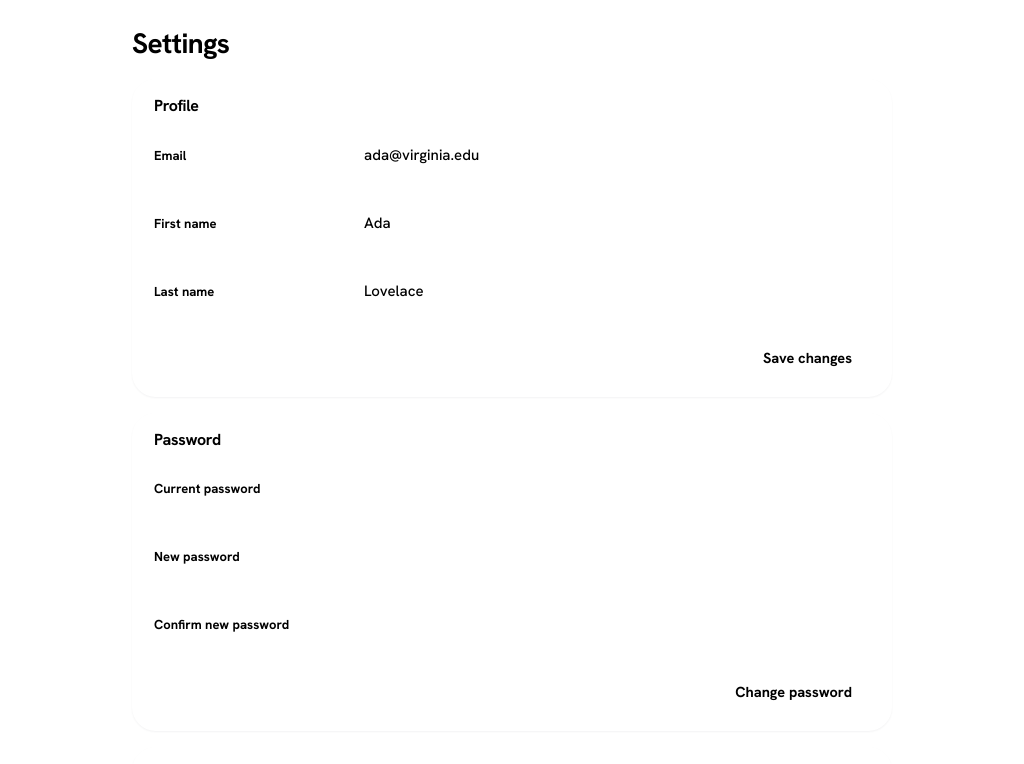
Save changes updates the profile
Replace the text in the field labelled "Last name" with "King" at (610, 291), box [350, 269, 870, 313]
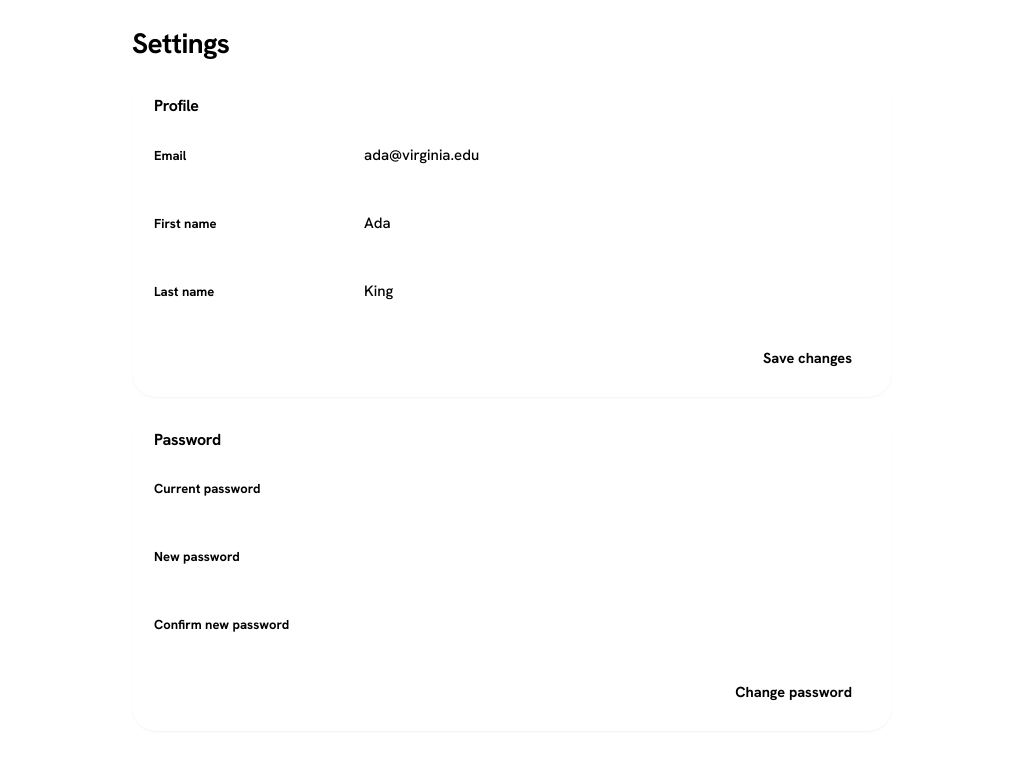
Click the button "Save changes" at (807, 358), box [745, 337, 870, 379]
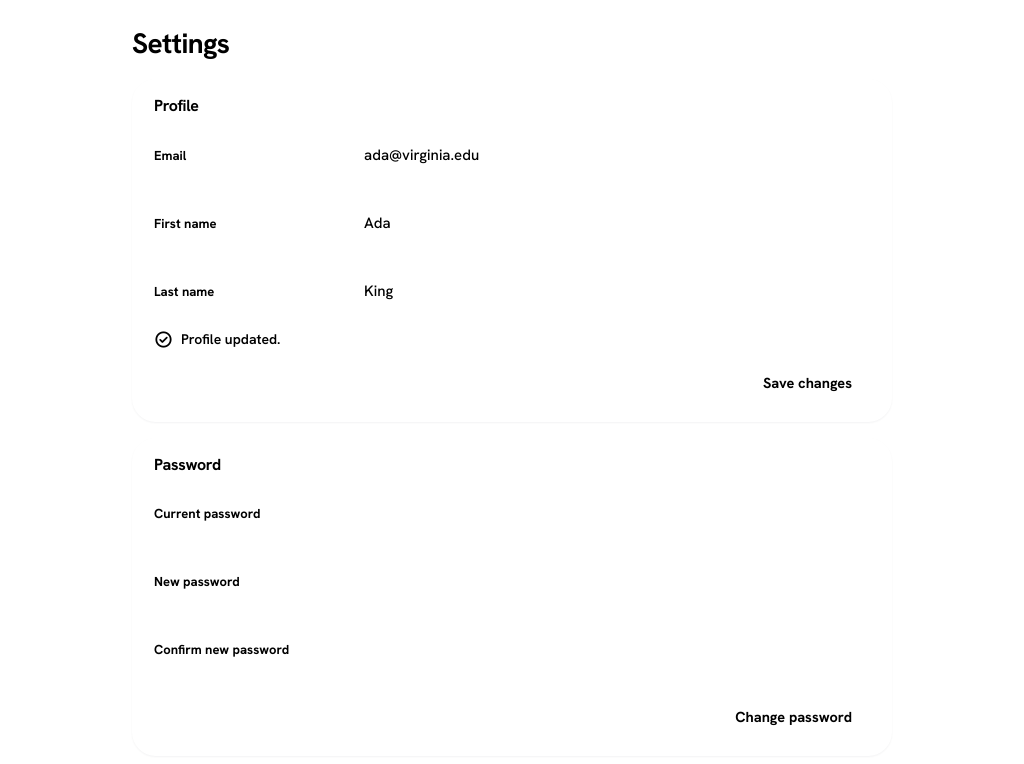
Expected: the text "Profile updated." is shown, [154, 328, 280, 351]
